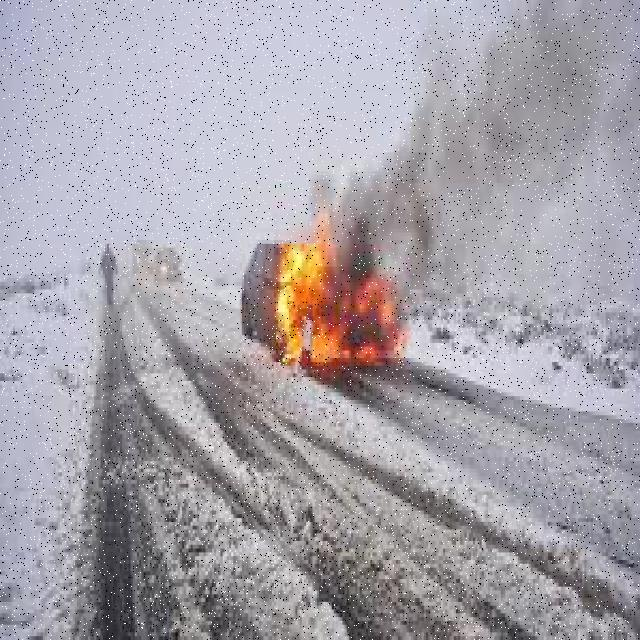fire: (279, 232, 394, 368)
